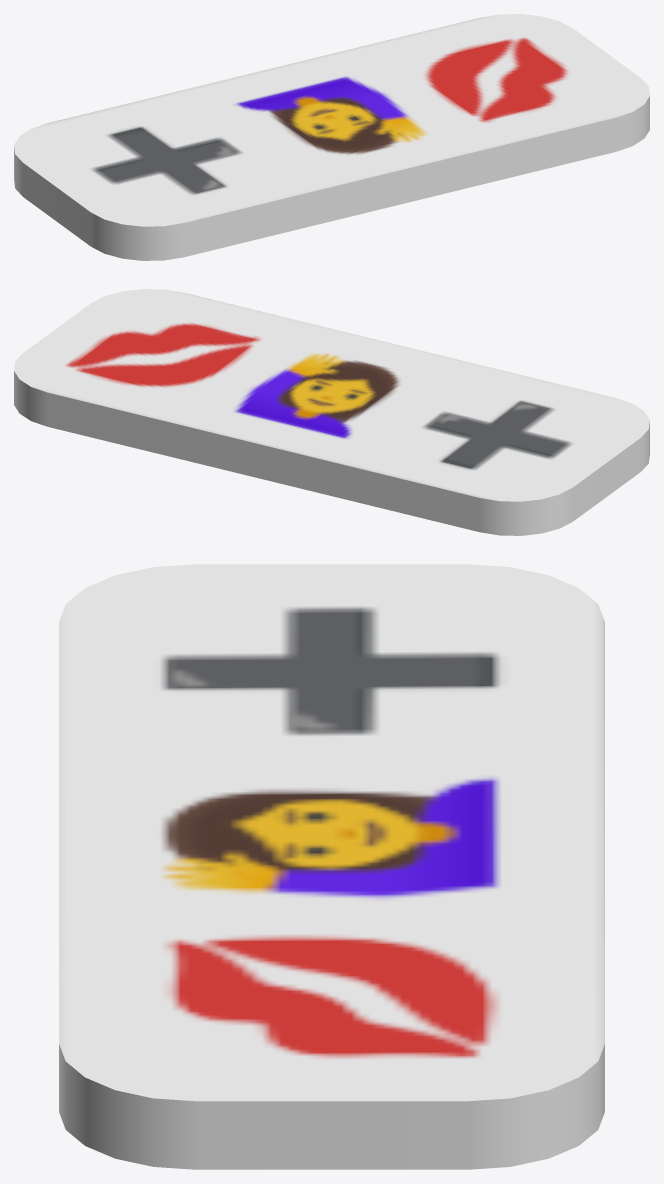
Rendered from boxx.fbx.
3 views of the same model, one above another, from view 1: azimuth 30°, elevation 25°; view 2: azimuth 150°, elevation 25°; view 3: azimuth 270°, elevation 25° (orthographic). The views are drawn at different scales.
Parts seen in each view (by area): view 1: pCube1; view 2: pCube1; view 3: pCube1.
Boxes of the visible parts, left/top/right/bottom form: pCube1: left=14, top=14, right=649, bottom=260; pCube1: left=14, top=289, right=649, bottom=535; pCube1: left=59, top=564, right=604, bottom=1169.
Bounding box in the file's own units: 2.33 × 0.1384 × 1.
1 material, 1 textured.
